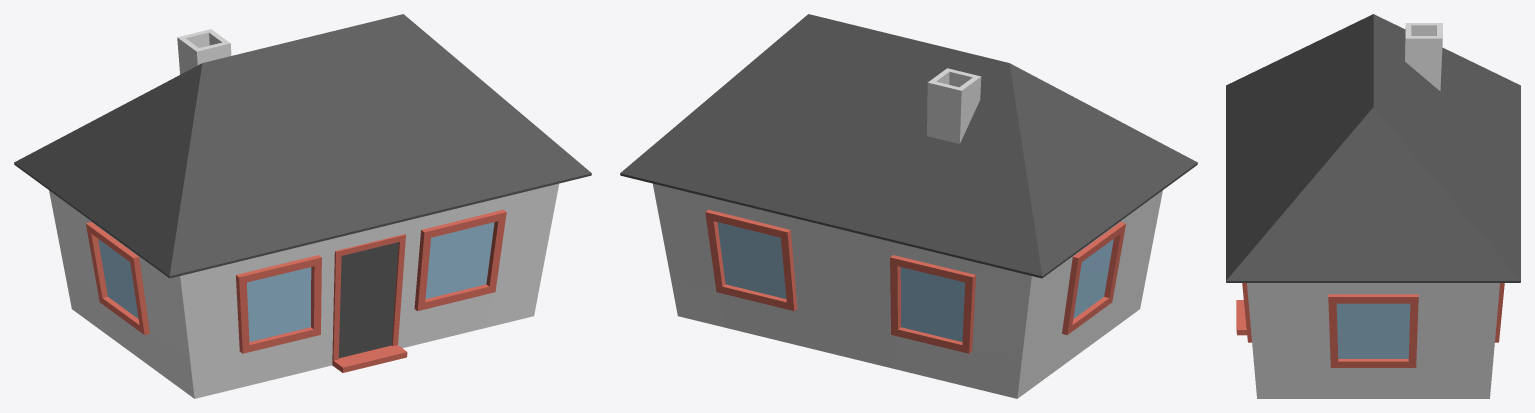
The model's file is domik.fbx.
3 views of the same model, side by side, from view 1: azimuth 30°, elevation 25°; view 2: azimuth 150°, elevation 25°; view 3: azimuth 270°, elevation 25° (orthographic). The views are drawn at different scales.
Visible parts, largest first — view 1: Cube; view 2: Cube; view 3: Cube.
Part boxes in pixels (x1,y1,x2,y2): Cube: (14,14,591,398); Cube: (620,14,1197,398); Cube: (1226,14,1520,398).
Bounding box in the file's own units: 384 × 238 × 245.
